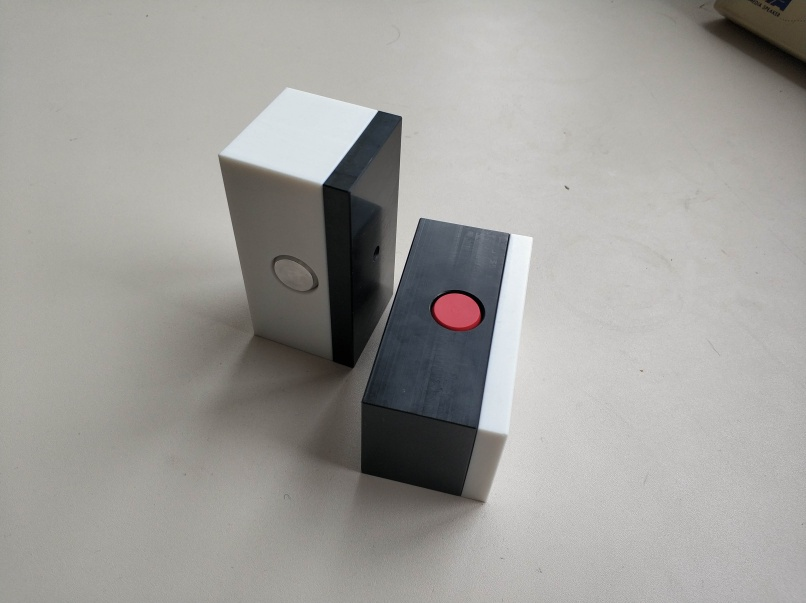black+white+silver: (215, 86, 405, 369)
white+black+red: (358, 215, 537, 503)
